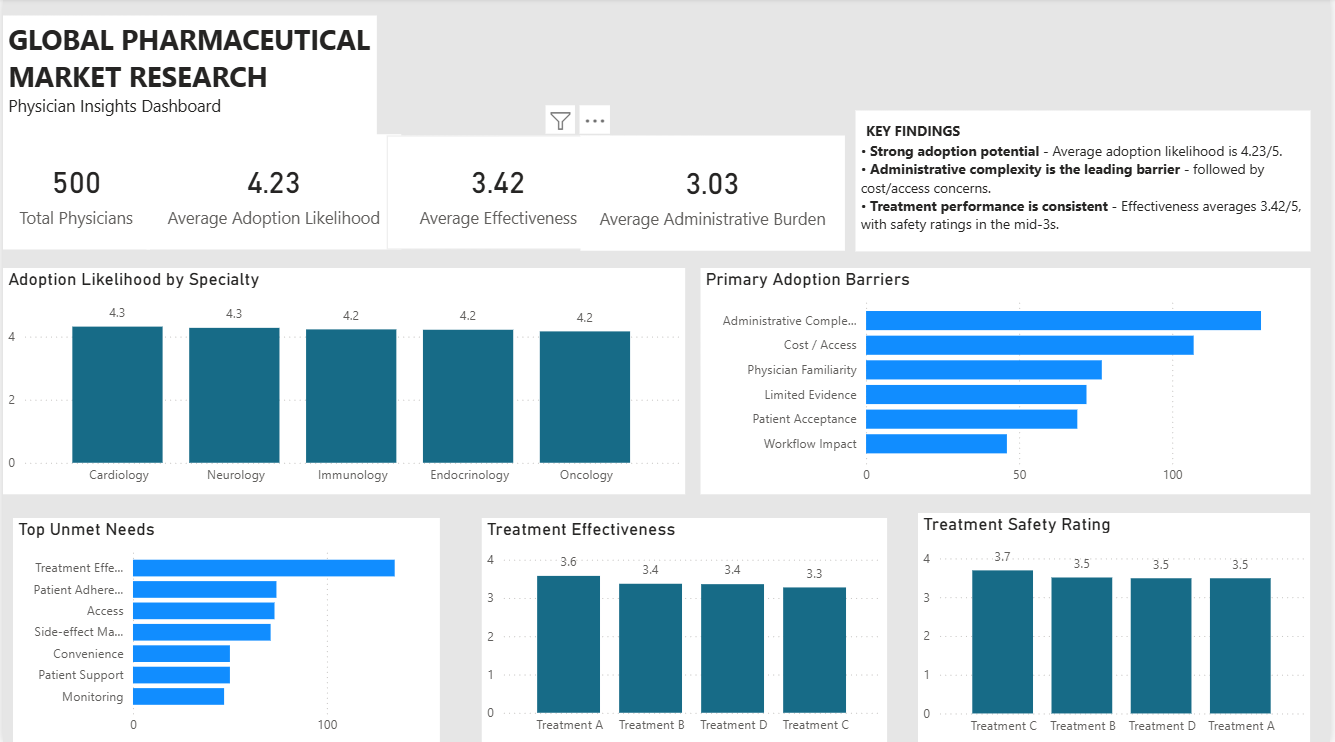

What the dashboard file says about the page in this screenshot:
{"tool":"powerbi","page":{"name":"Page 1","canvas":[1280,720],"ordinal":0},"visuals":[{"type":"card","fields":{"Values":["public physician_survey.Total Physicians"]},"box":[0,131.7,141.3,111.1],"z":0},{"type":"card","fields":{"Values":["public physician_survey.Average Adoption Likelihood"]},"box":[138.6,131.7,245.6,111.1],"z":1},{"type":"card","fields":{"Values":["public physician_survey.Average Effectiveness"]},"box":[370.5,133.1,215.4,109.8],"z":2},{"type":"card","fields":{"Values":["public physician_survey.Average Administrative Burden"]},"box":[557.1,133.1,255.2,111.1],"z":3},{"type":"clusteredColumnChart","title":"Adoption Likelihood by Specialty","fields":{"Category":["public physician_survey.specialty"],"Y":["public physician_survey.Average Adoption Likelihood"]},"box":[0,260.7,658.7,218.2],"z":4},{"type":"clusteredBarChart","title":"Primary Adoption Barriers","fields":{"Category":["public physician_survey.primary_adoption_barrier"],"Y":["CountNonNull(public physician_survey.respondent_id)"]},"box":[673.8,260.7,588.7,218.2],"z":5},{"type":"clusteredColumnChart","title":"Treatment Effectiveness","fields":{"Category":["public physician_survey.primary_treatment"],"Y":["public physician_survey.Average Effectiveness"]},"box":[462.4,502.2,391.1,218.2],"z":6},{"type":"clusteredBarChart","title":"Top Unmet Needs","fields":{"Category":["public physician_survey.primary_unmet_need"],"Y":["CountNonNull(public physician_survey.respondent_id)"]},"box":[9.6,502.2,411.7,218.2],"z":7},{"type":"clusteredColumnChart","title":"Treatment Safety Rating","fields":{"Category":["public physician_survey.primary_treatment"],"Y":["public physician_survey.Average Safety Rating"]},"box":[883.7,496.7,378.7,223.7],"z":8},{"type":"textbox","box":[0,16.5,360.9,116.6],"z":10},{"type":"textbox","box":[823.3,108.4,439.1,135.8],"z":11}]}

Visuals, with their boxes in screenshot pixels (x1, y1, x2, y2), scaled from the page's 1280x720 canvas onto the 1335x742 screenshot:
card - public physician_survey.Total Physicians: [left=0, top=136, right=147, bottom=250]
card - public physician_survey.Average Adoption Likelihood: [left=145, top=136, right=401, bottom=250]
card - public physician_survey.Average Effectiveness: [left=386, top=137, right=611, bottom=250]
card - public physician_survey.Average Administrative Burden: [left=581, top=137, right=847, bottom=252]
"Adoption Likelihood by Specialty" clusteredColumnChart: [left=0, top=269, right=687, bottom=494]
"Primary Adoption Barriers" clusteredBarChart: [left=703, top=269, right=1317, bottom=494]
"Treatment Effectiveness" clusteredColumnChart: [left=482, top=518, right=890, bottom=741]
"Top Unmet Needs" clusteredBarChart: [left=10, top=518, right=439, bottom=741]
"Treatment Safety Rating" clusteredColumnChart: [left=922, top=512, right=1317, bottom=741]
textbox: [left=0, top=17, right=376, bottom=137]
textbox: [left=859, top=112, right=1317, bottom=252]
